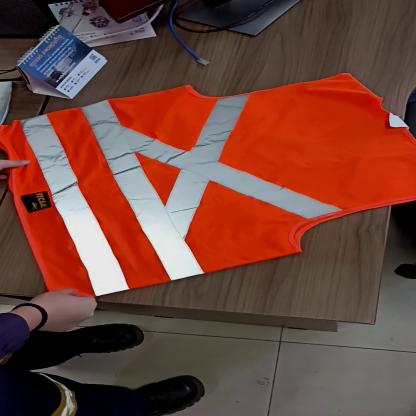colete: (0, 70, 416, 304)
